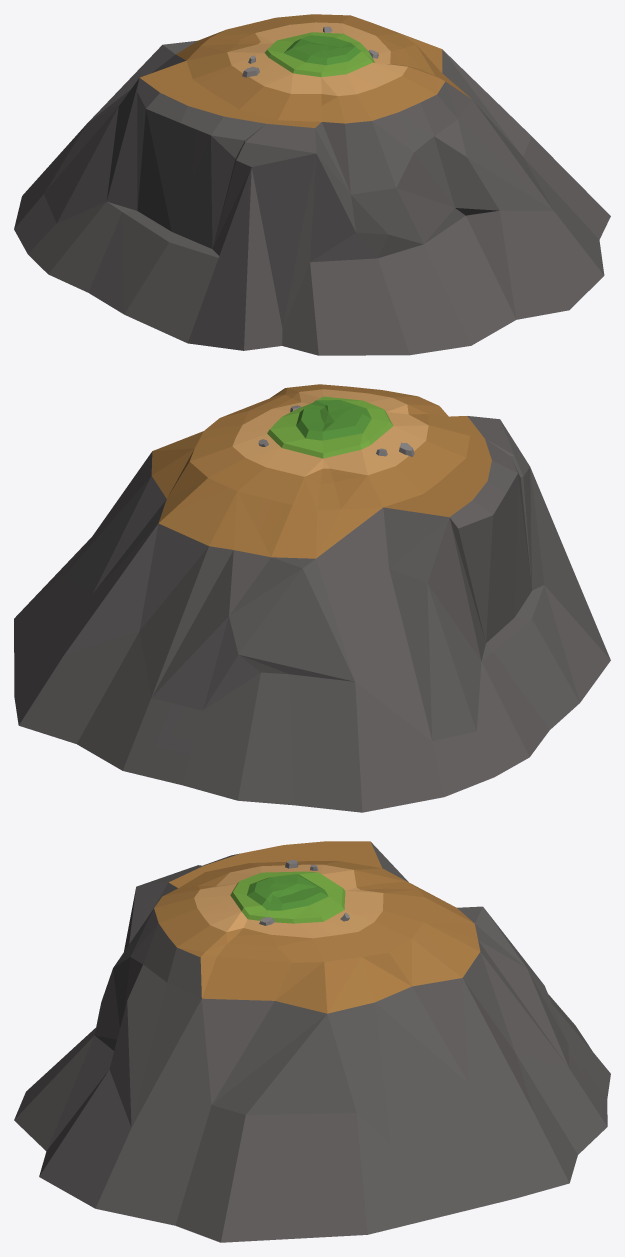
Rendered from terrains_island-round-tiny.fbx.
3 views of the same model, one above another, from view 1: azimuth 30°, elevation 25°; view 2: azimuth 150°, elevation 25°; view 3: azimuth 270°, elevation 25° (orthographic). The views are drawn at different scales.
Visible parts, largest first — view 1: terrains_island_round_tiny; view 2: terrains_island_round_tiny; view 3: terrains_island_round_tiny.
Boxes of the visible parts, x1,y1,x2,y2 form: terrains_island_round_tiny: (14, 14, 610, 355); terrains_island_round_tiny: (14, 384, 610, 812); terrains_island_round_tiny: (14, 841, 610, 1242).
Bounding box in the file's own units: 197 × 82.68 × 200.
